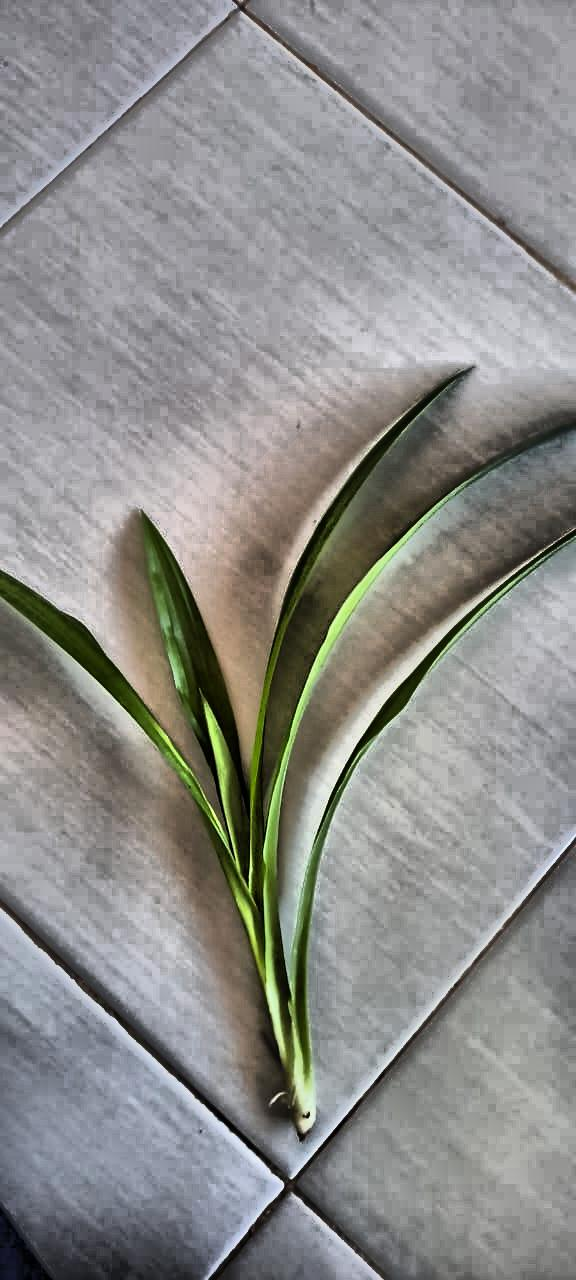daun pandan: (0, 375, 575, 1139)
